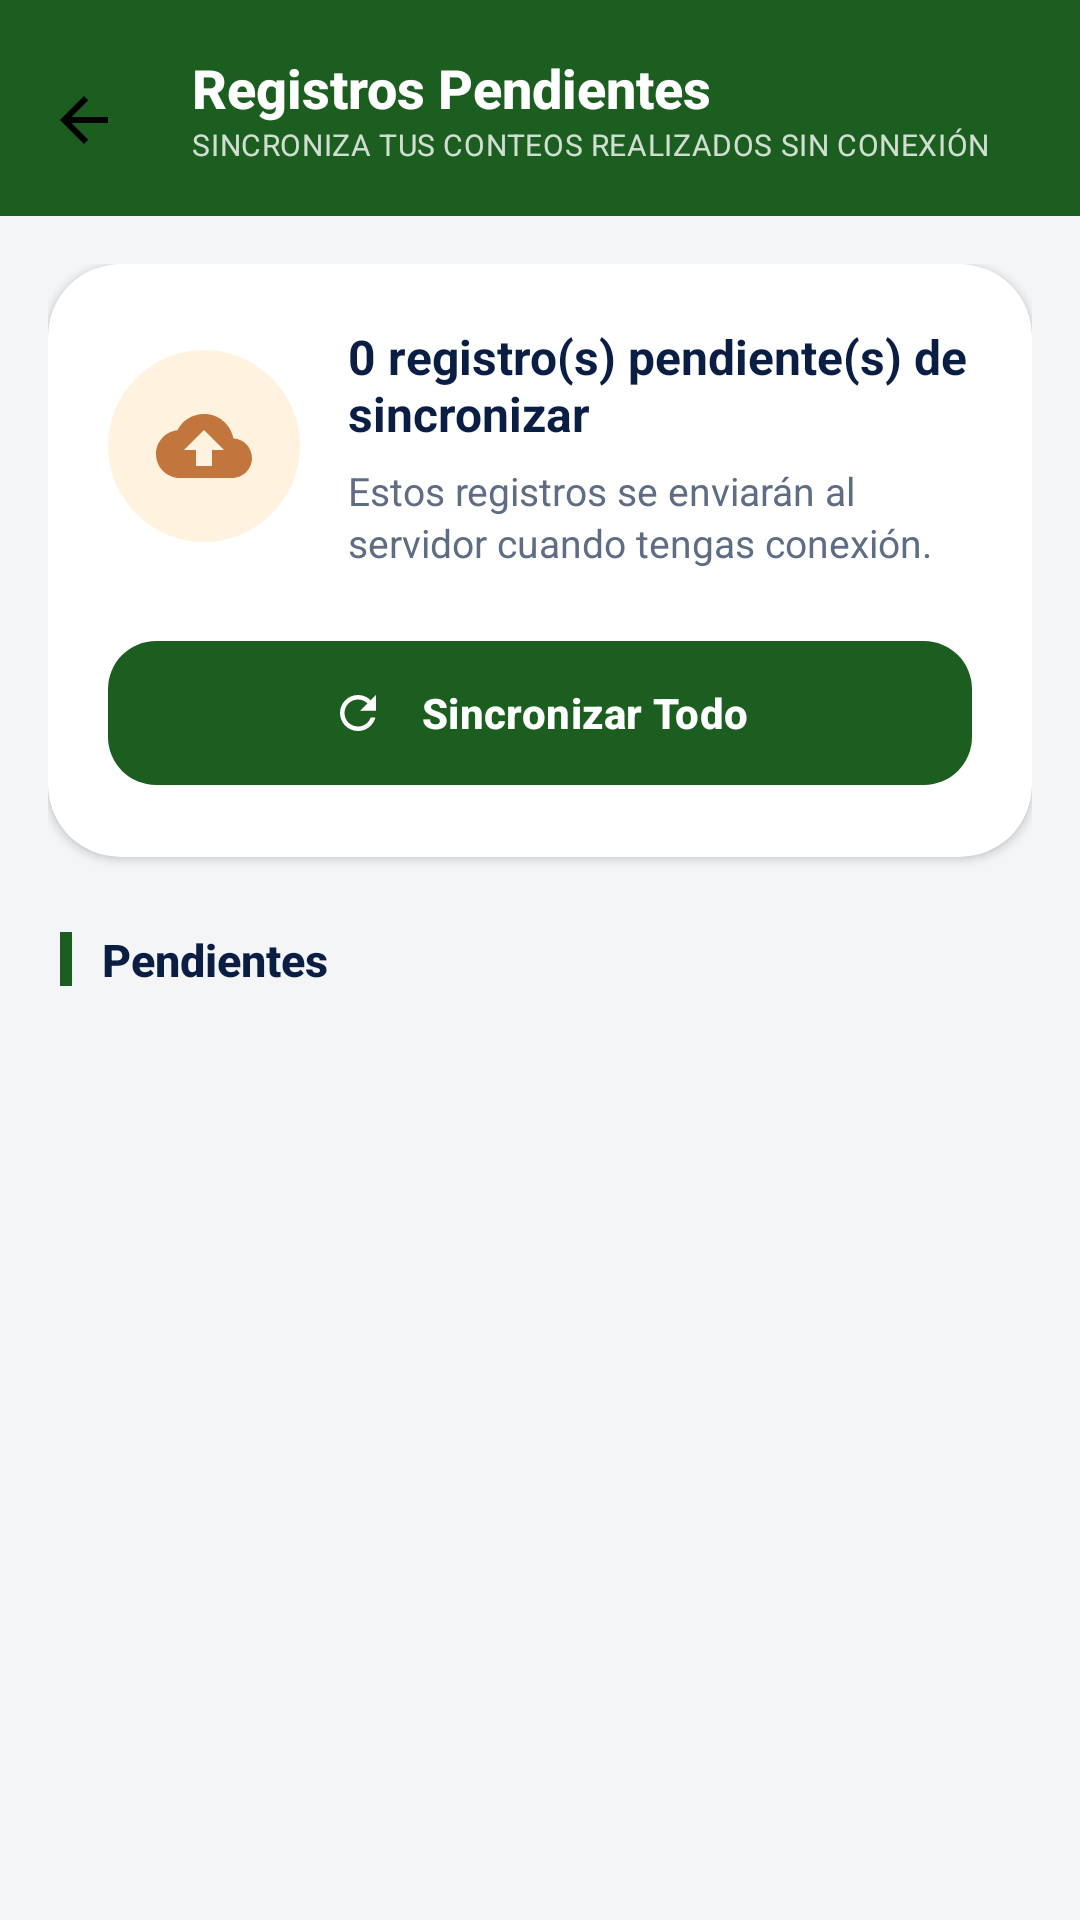

Named icons in this screenshot (1080w x 1920h) and their bounding boxes, (x1, y1, x2, y2):
cloud upload: (156, 414, 252, 478)
